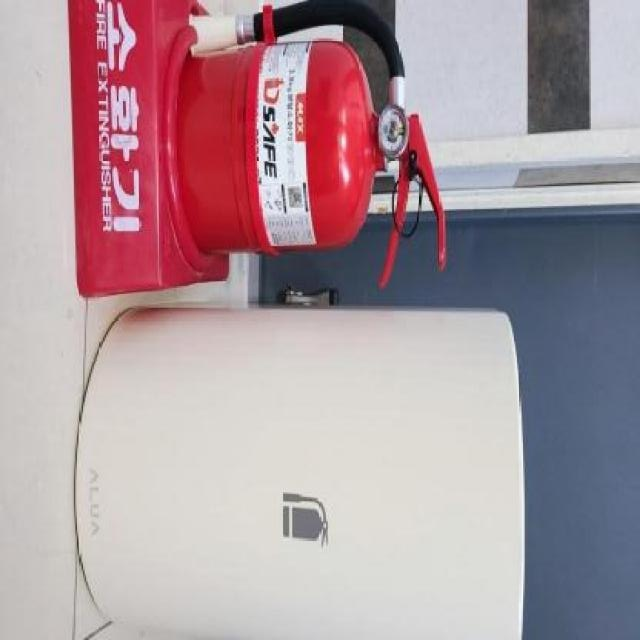fire extinguisher: (176, 0, 447, 289)
